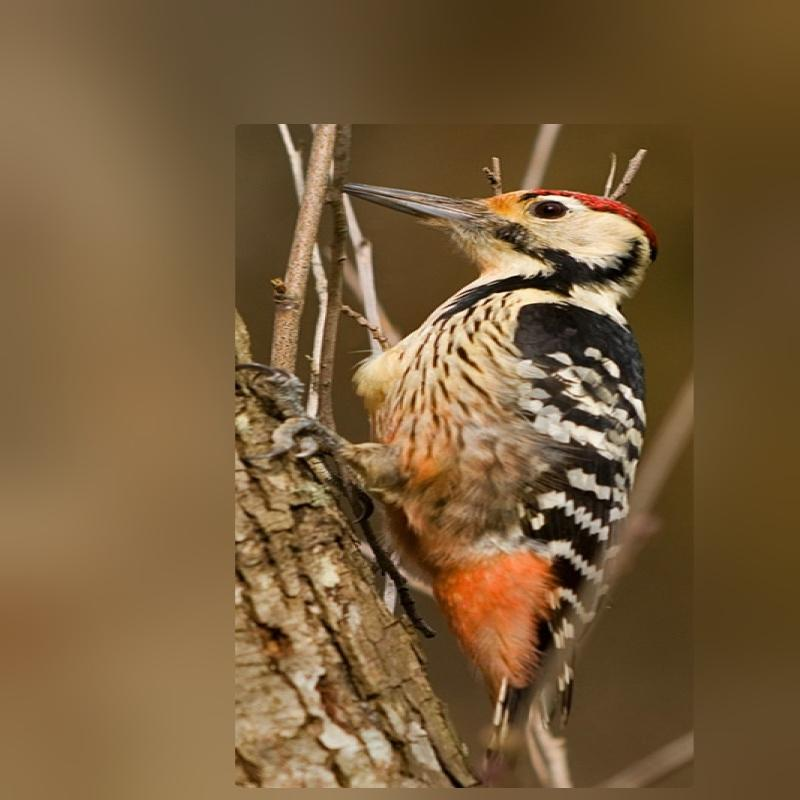white-backed woodpecker: (315, 158, 701, 736)
